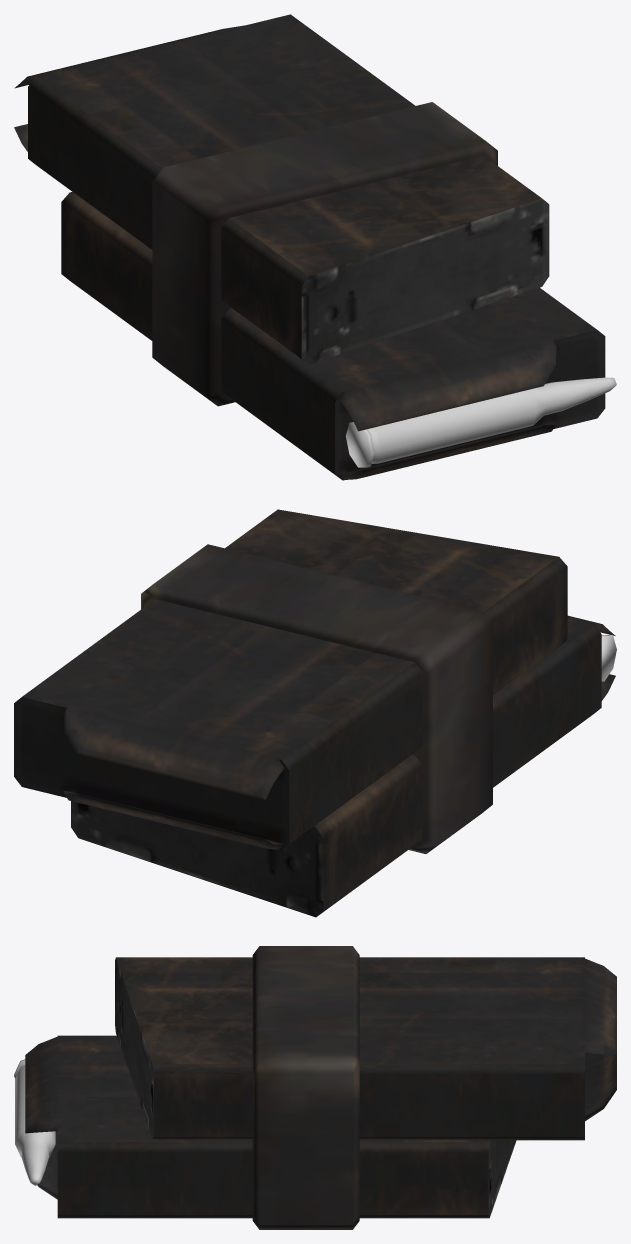
File: t6_attach_fastmag_saritch_view_LOD0.obj
3 renders of one model, top to bottom at view 1: azimuth 30°, elevation 25°; view 2: azimuth 150°, elevation 25°; view 3: azimuth 270°, elevation 25°, orthographic. The views are drawn at different scales.
Parts seen in each view (by area): view 1: mtl_t6_wpn_ar_saritch, mtl_t6_attach_bullet; view 2: mtl_t6_wpn_ar_saritch, mtl_t6_attach_bullet; view 3: mtl_t6_wpn_ar_saritch, mtl_t6_attach_bullet.
Part boxes in pixels (x1,y1,x2,y2): mtl_t6_wpn_ar_saritch: (14, 14, 605, 480); mtl_t6_attach_bullet: (346, 377, 616, 467); mtl_t6_wpn_ar_saritch: (14, 509, 615, 917); mtl_t6_attach_bullet: (601, 635, 616, 681); mtl_t6_wpn_ar_saritch: (25, 946, 616, 1229); mtl_t6_attach_bullet: (14, 1059, 55, 1185).
Bounding box in the file's own units: 9.22 × 6.02 × 19.22.
